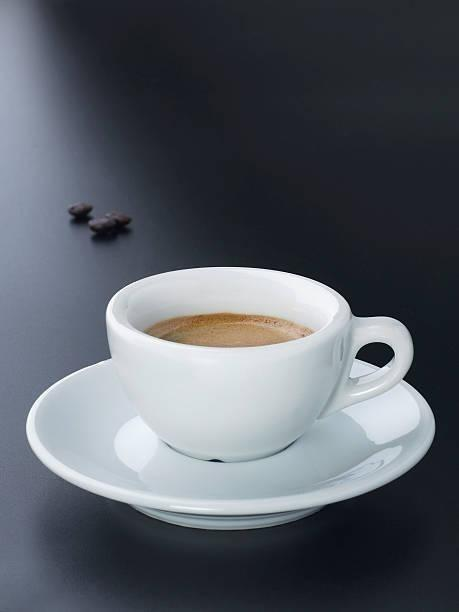cup-handle: (104, 264, 414, 463)
